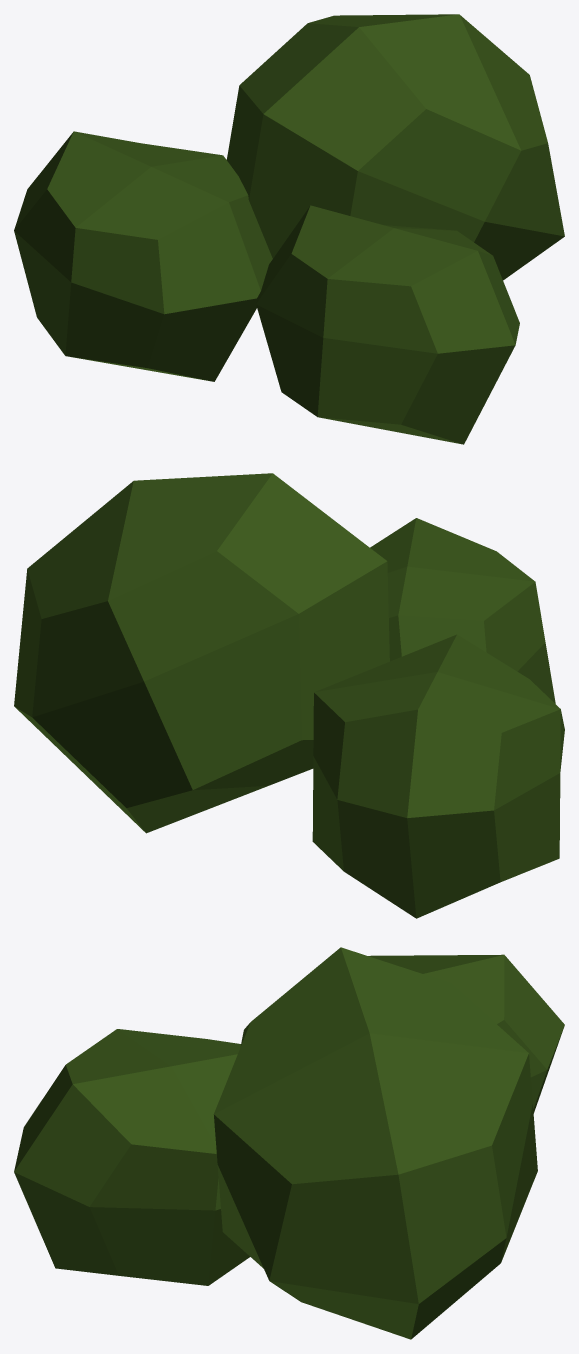
File: piedrasxtres_001.glb
3 renders of one model, top to bottom at view 1: azimuth 30°, elevation 25°; view 2: azimuth 150°, elevation 25°; view 3: azimuth 270°, elevation 25°, orthographic. The views are drawn at different scales.
Parts seen in each view (by area): view 1: piedrasxtres_001; view 2: piedrasxtres_001; view 3: piedrasxtres_001.
Part boxes in pixels (left/top/right/bottom): piedrasxtres_001: left=14, top=14, right=564, bottom=444; piedrasxtres_001: left=14, top=473, right=564, bottom=918; piedrasxtres_001: left=14, top=947, right=564, bottom=1339.
Bounding box in the file's own units: 1.21 × 0.7897 × 1.13.
